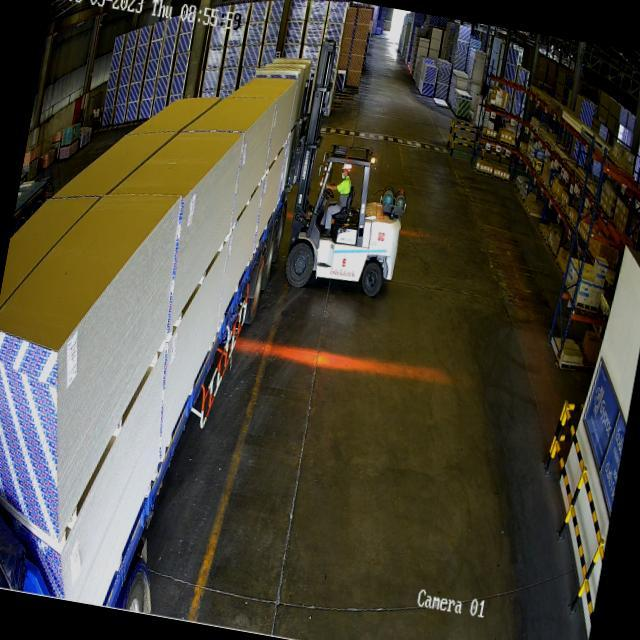driver: (316, 156, 364, 249)
forklift: (276, 130, 416, 308)
